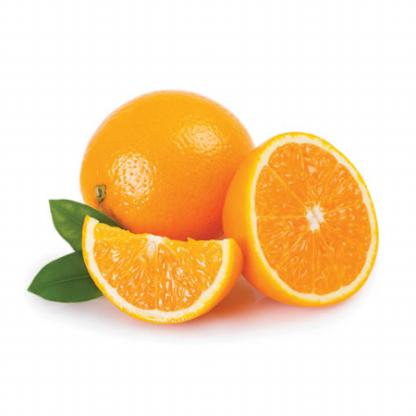orange: (69, 79, 264, 268)
